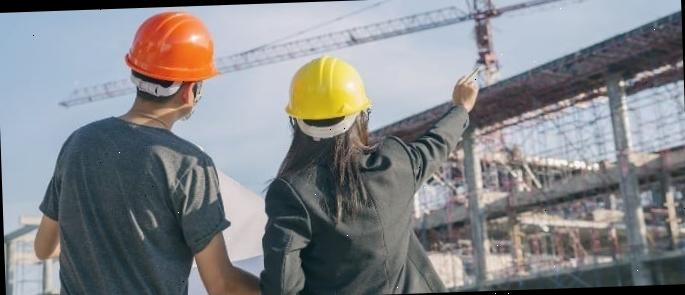helmet: (121, 9, 220, 85), (279, 54, 374, 120)
no_wear: (56, 123, 206, 295), (260, 142, 421, 295)
